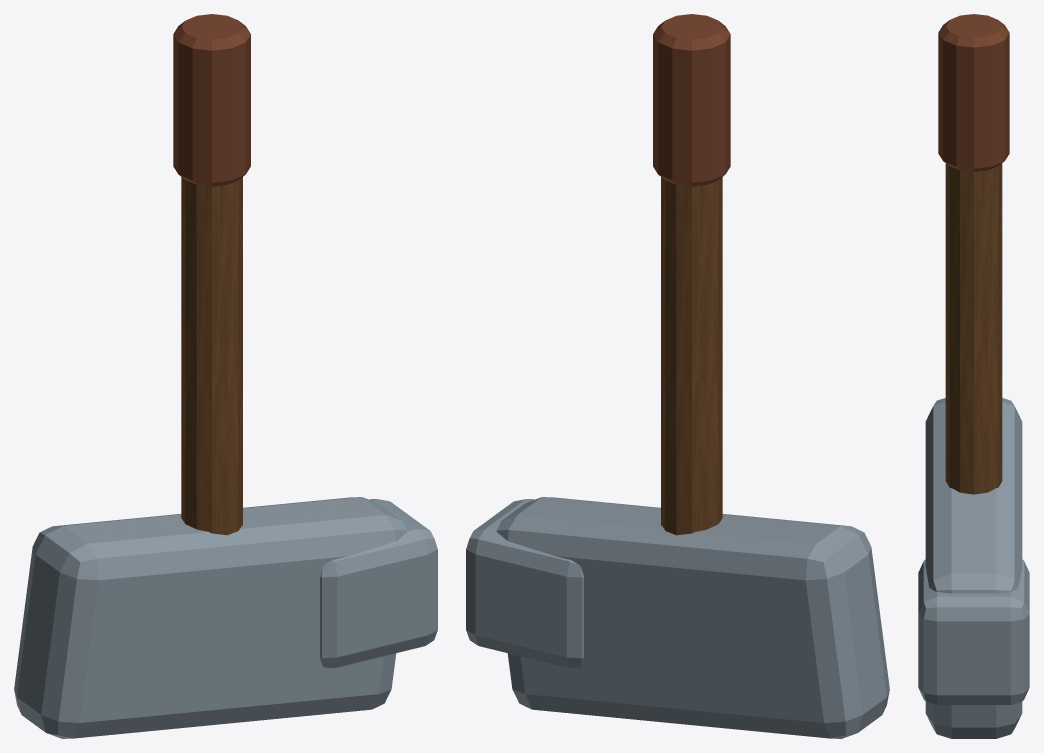
The model's file is axe.glb.
The picture shows the model from 3 angles, left to right: view 1: azimuth 30°, elevation 25°; view 2: azimuth 150°, elevation 25°; view 3: azimuth 270°, elevation 25°; orthographic projection. The views are drawn at different scales.
Visible parts, largest first — view 1: Axe head, Axe handle, Axe poll, Axe grip; view 2: Axe head, Axe handle, Axe poll, Axe grip; view 3: Axe handle, Axe head, Axe poll, Axe grip.
Part boxes in pixels (x1,y1,x2,y2): Axe head: (14, 497, 407, 738); Axe handle: (181, 177, 242, 535); Axe poll: (320, 499, 437, 668); Axe grip: (173, 14, 250, 186); Axe head: (496, 497, 889, 738); Axe handle: (661, 177, 722, 535); Axe poll: (466, 499, 583, 668); Axe grip: (653, 14, 730, 186); Axe handle: (945, 163, 1002, 494); Axe head: (925, 398, 1022, 738); Axe poll: (918, 559, 1029, 704); Axe grip: (938, 14, 1009, 171).
Bounding box in the file's own units: 0.5508 × 0.9637 × 0.15.
3 materials, 1 textured.
